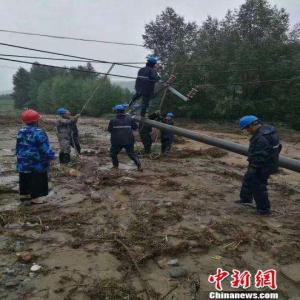blue: (240, 115, 260, 135), (57, 108, 73, 121), (146, 57, 158, 69), (115, 105, 127, 116), (166, 113, 175, 122)
red: (22, 110, 41, 129)
